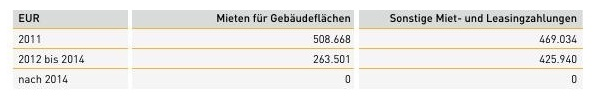table: (0, 0, 599, 97)
